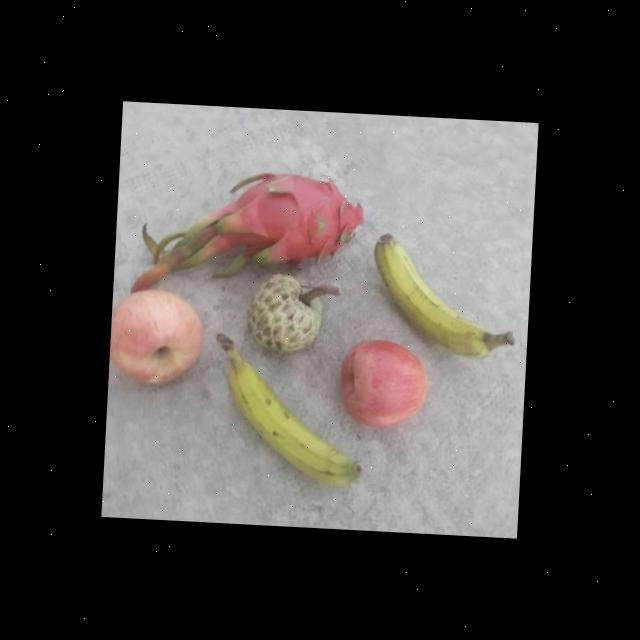Sakya fruit: (246, 272, 330, 356)
apple: (109, 286, 212, 392), (334, 334, 434, 438)
banana: (207, 333, 376, 491), (370, 232, 526, 364)
pitaya: (208, 170, 369, 282)
